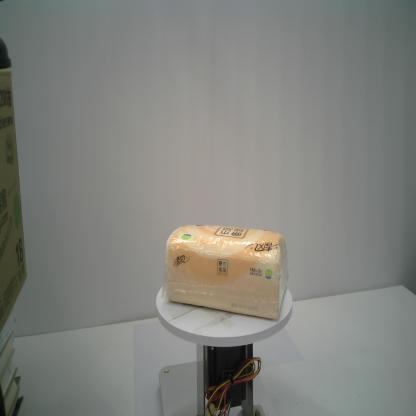Tissue: (160, 223, 289, 321)
